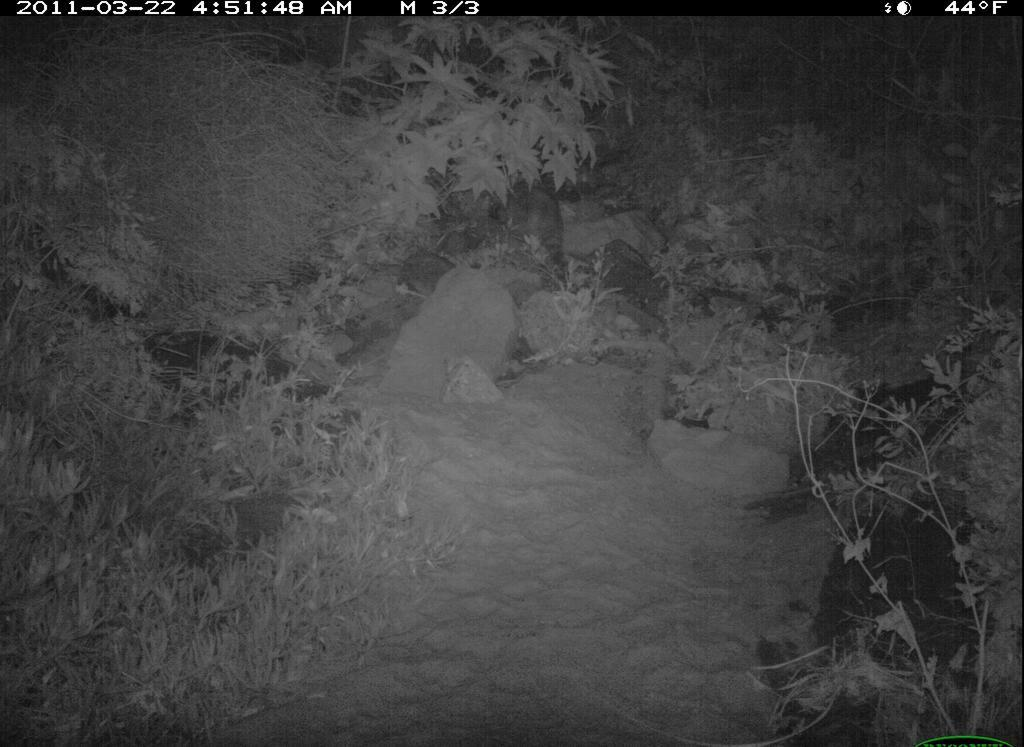raccoon: (498, 177, 575, 280)
